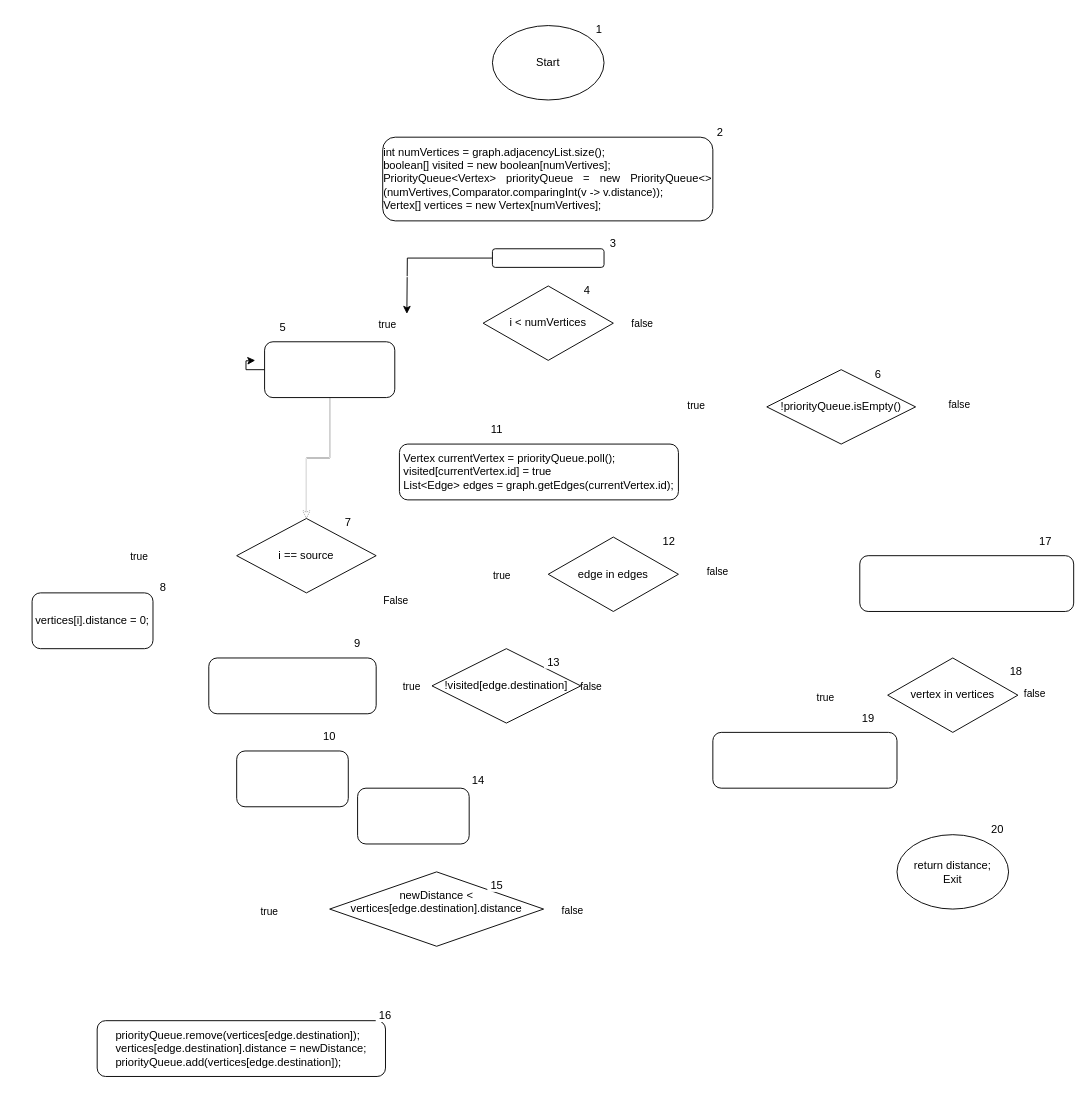
Image size: 1090x1093. Some labels were removed from this diagram. The shapes that lost their labels are listed below. From the top down, each one's centre as x and y in pixels, then its label:
At point (548, 257): "int i = 0;".
At point (329, 369): "vertices[i] = new Vertex(i);".
At point (966, 583): "int[][]distance = new int[vertices.length][2]; int count = 0;".
At point (292, 685): "priorityQueue.add(vertices[i]);".
At point (292, 778): "i++".
At point (804, 759): "distance[count][0] = vertex.id; distance[count][1] = vertex.distance; count++;".
At point (413, 815): "int newDistance = currentVertex.distance + edge.weight;".
